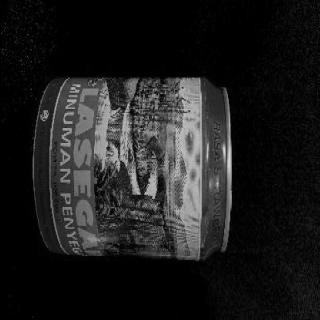alumunium_can: (29, 76, 231, 261)
